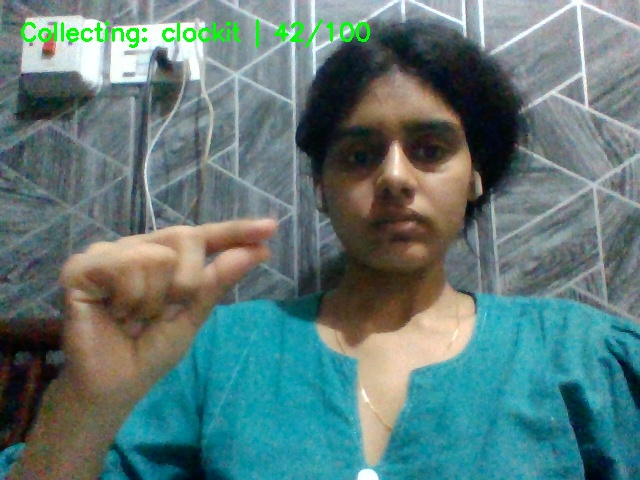clockit: (49, 207, 300, 376)
